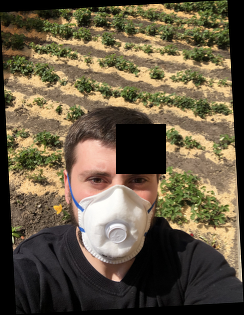with_mask: (75, 152, 159, 264)
